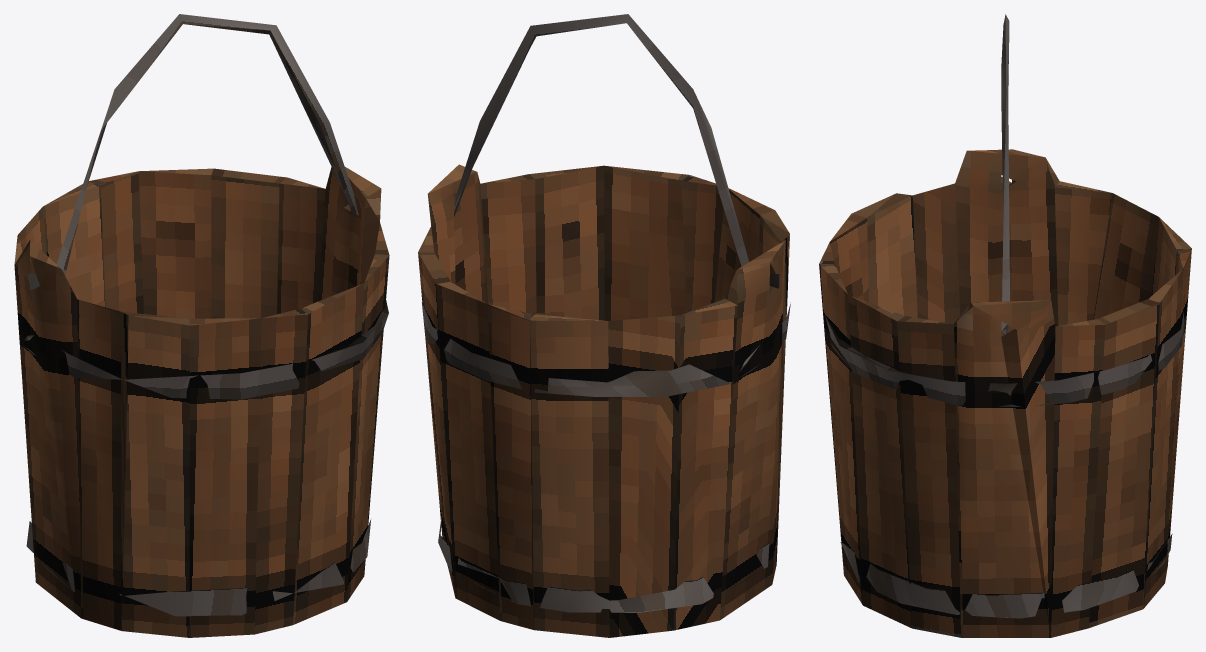
Rendered from wooden_bucket_01.glb.
The picture shows the model from 3 angles, left to right: view 1: azimuth 30°, elevation 25°; view 2: azimuth 150°, elevation 25°; view 3: azimuth 270°, elevation 25°; orthographic projection. The views are drawn at different scales.
Parts seen in each view (by area): view 1: wooden_bucket_01; view 2: wooden_bucket_01; view 3: wooden_bucket_01.
Part boxes in pixels (box(x1,y1,x2,y2)): wooden_bucket_01: box(14, 14, 389, 637); wooden_bucket_01: box(418, 14, 790, 637); wooden_bucket_01: box(819, 14, 1191, 637).
Bounding box in the file's own units: 0.3555 × 0.555 × 0.3413.
1 material, 1 textured.
